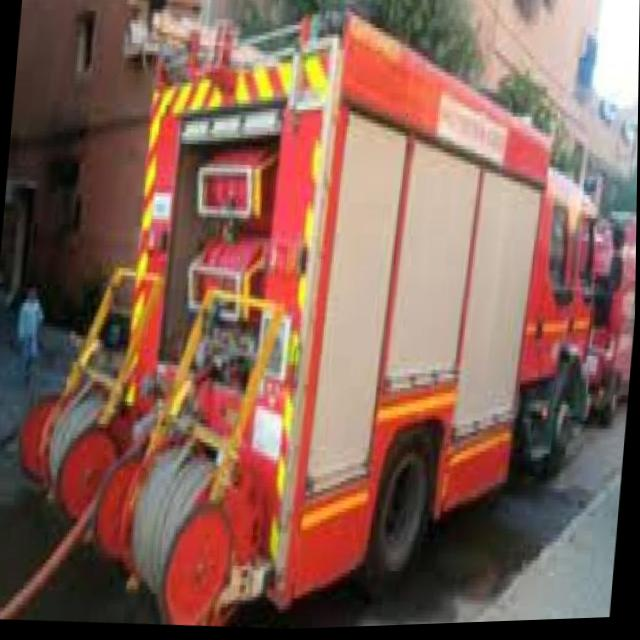Protection Civile: (8, 0, 624, 640)
